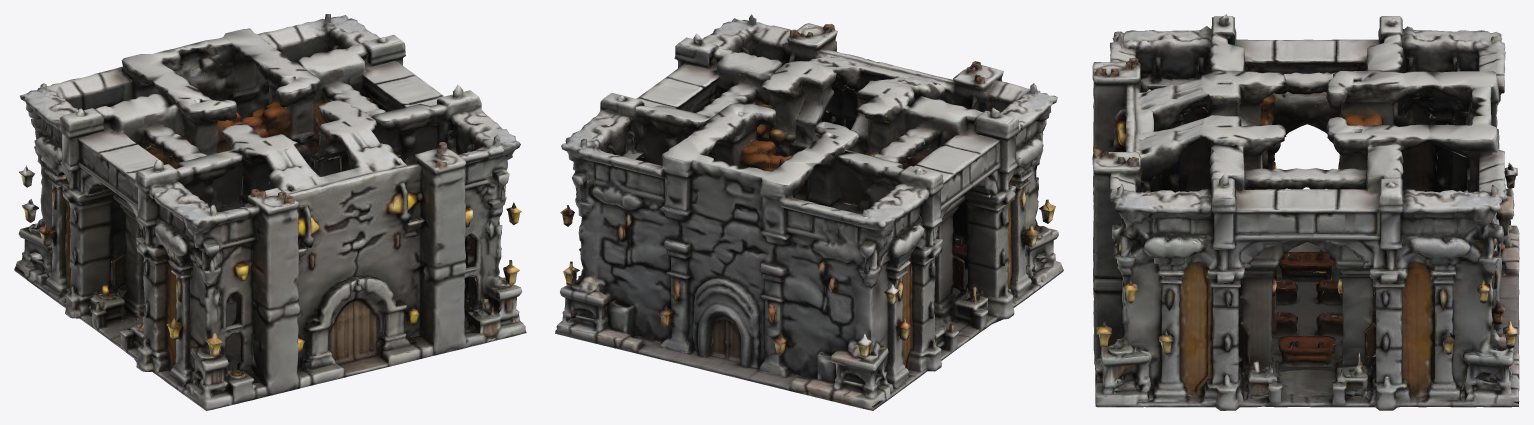
File: Dwarven Market #6_final.glb
3 views of the same model, side by side, from view 1: azimuth 30°, elevation 25°; view 2: azimuth 150°, elevation 25°; view 3: azimuth 270°, elevation 25° (orthographic). The views are drawn at different scales.
Size of the model in its own units: 1.91 by 1.12 by 1.9.
1 material, 1 textured.
